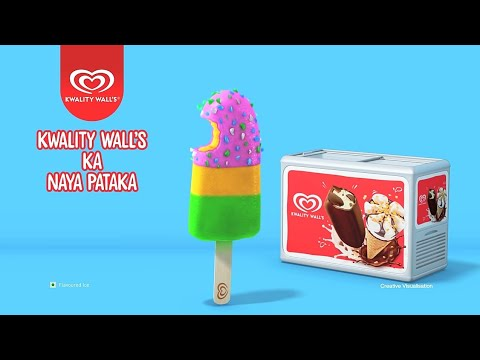Kwality_Walls: (67, 64, 115, 97), (286, 184, 323, 214), (411, 193, 431, 204)
